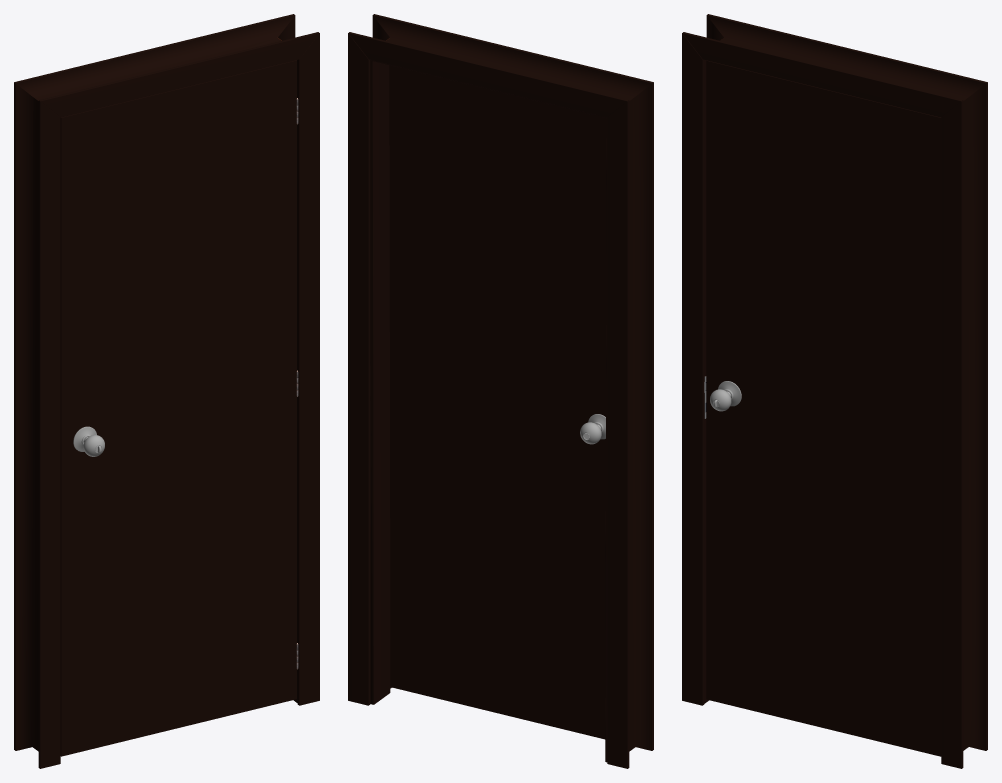
File: kapiii.fbx
3 views of the same model, side by side, from view 1: azimuth 30°, elevation 25°; view 2: azimuth 150°, elevation 25°; view 3: azimuth 330°, elevation 25° (orthographic).
Visible parts, largest first — view 1: Cylinder.006, Cylinder.004; view 2: Cylinder.006, Cylinder.004; view 3: Cylinder.006, Cylinder.004.
Part boxes in pixels (box(x1,y1,x2,y2)): Cylinder.006: box(60, 60, 298, 756); Cylinder.004: box(14, 14, 319, 768); Cylinder.006: box(389, 65, 606, 739); Cylinder.004: box(348, 14, 653, 768); Cylinder.006: box(705, 60, 941, 756); Cylinder.004: box(682, 14, 987, 768).
Bounding box in the file's own units: 96.72 × 221 × 23.91.
Materials: 6 (1 with a texture image).
